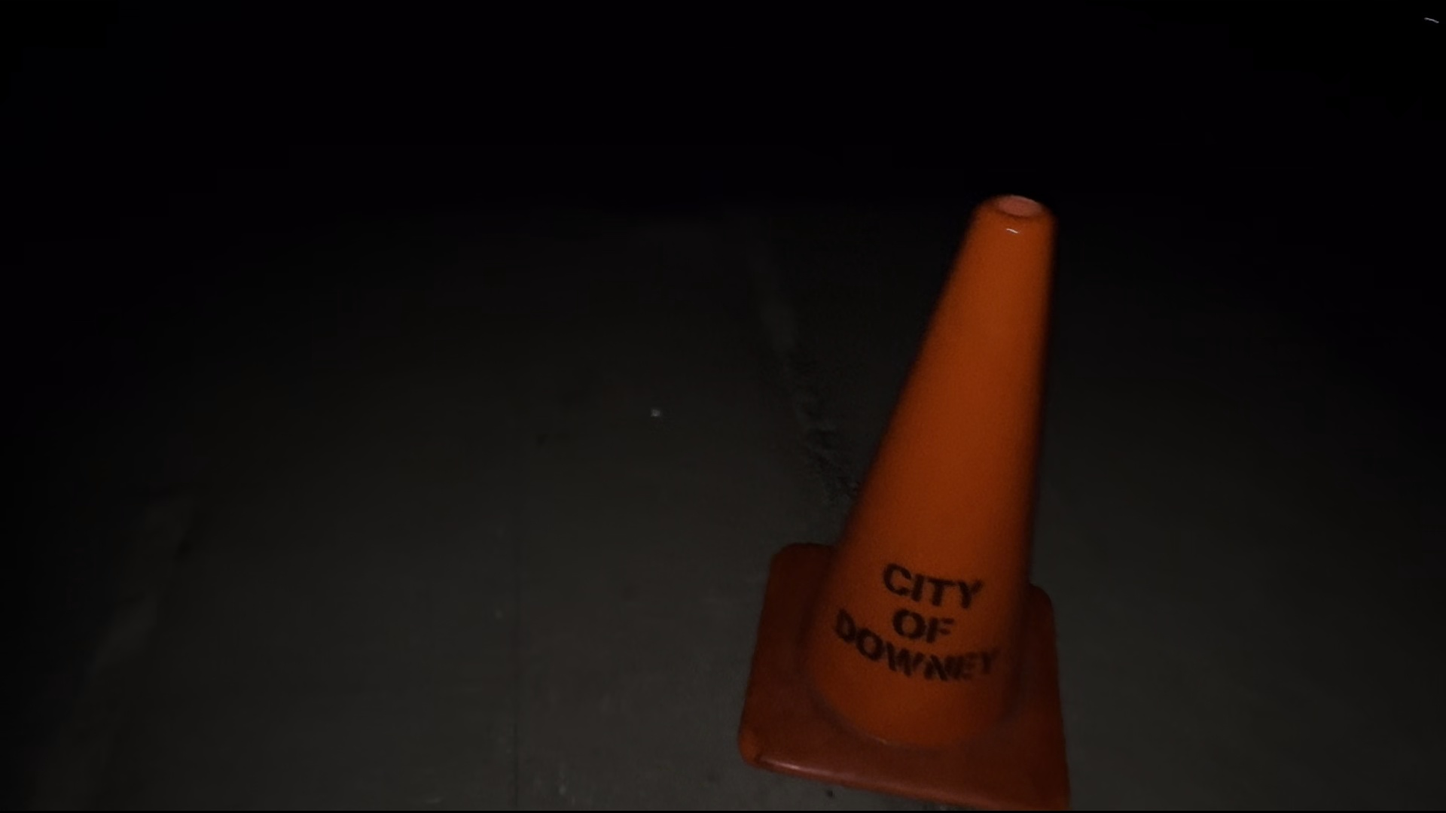traffic_cone: (736, 192, 1072, 810)
